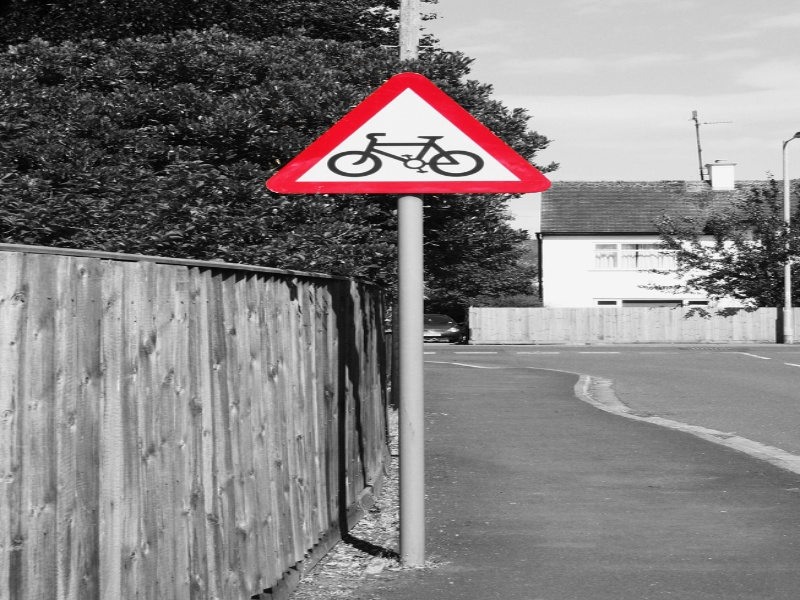cycle_route_ahead: (259, 68, 557, 197)
